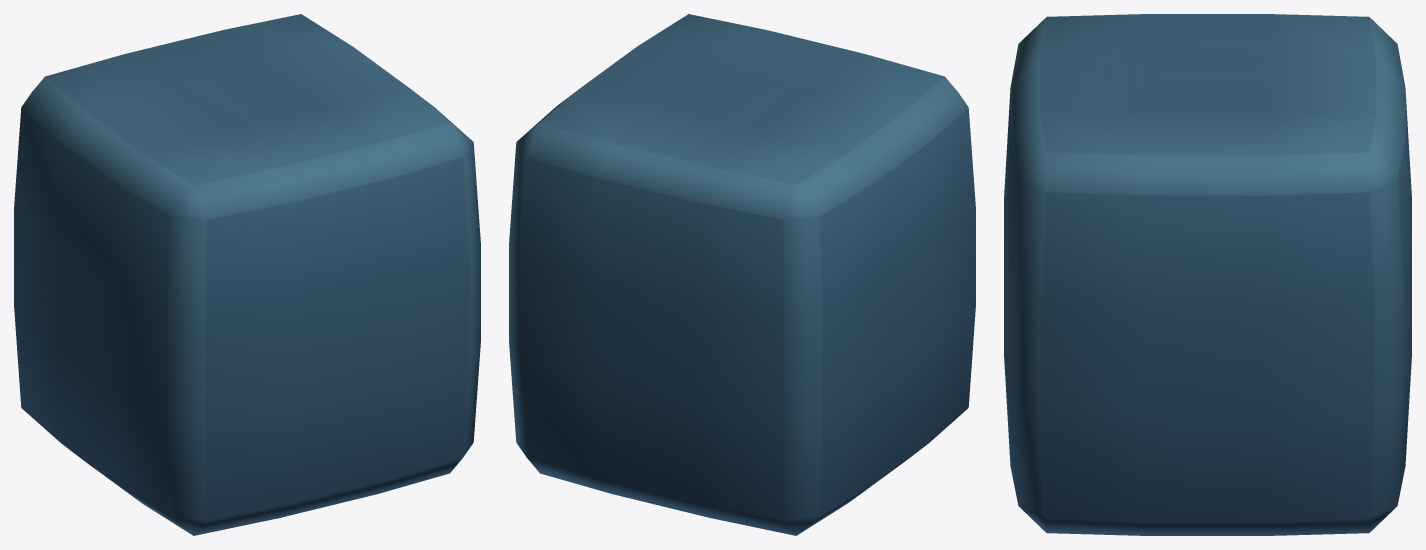
The model's file is cube_1m_dark.fbx.
3 renders of one model, left to right at view 1: azimuth 30°, elevation 25°; view 2: azimuth 150°, elevation 25°; view 3: azimuth 270°, elevation 25°, orthographic. The views are drawn at different scales.
Visible parts, largest first — view 1: cube_1m_dark; view 2: cube_1m_dark; view 3: cube_1m_dark.
Boxes of the visible parts, left/top/right/bottom form: cube_1m_dark: left=14, top=14, right=480, bottom=535; cube_1m_dark: left=509, top=14, right=975, bottom=535; cube_1m_dark: left=1004, top=14, right=1411, bottom=535.
Size of the model in its own units: 112 by 115 by 112.
